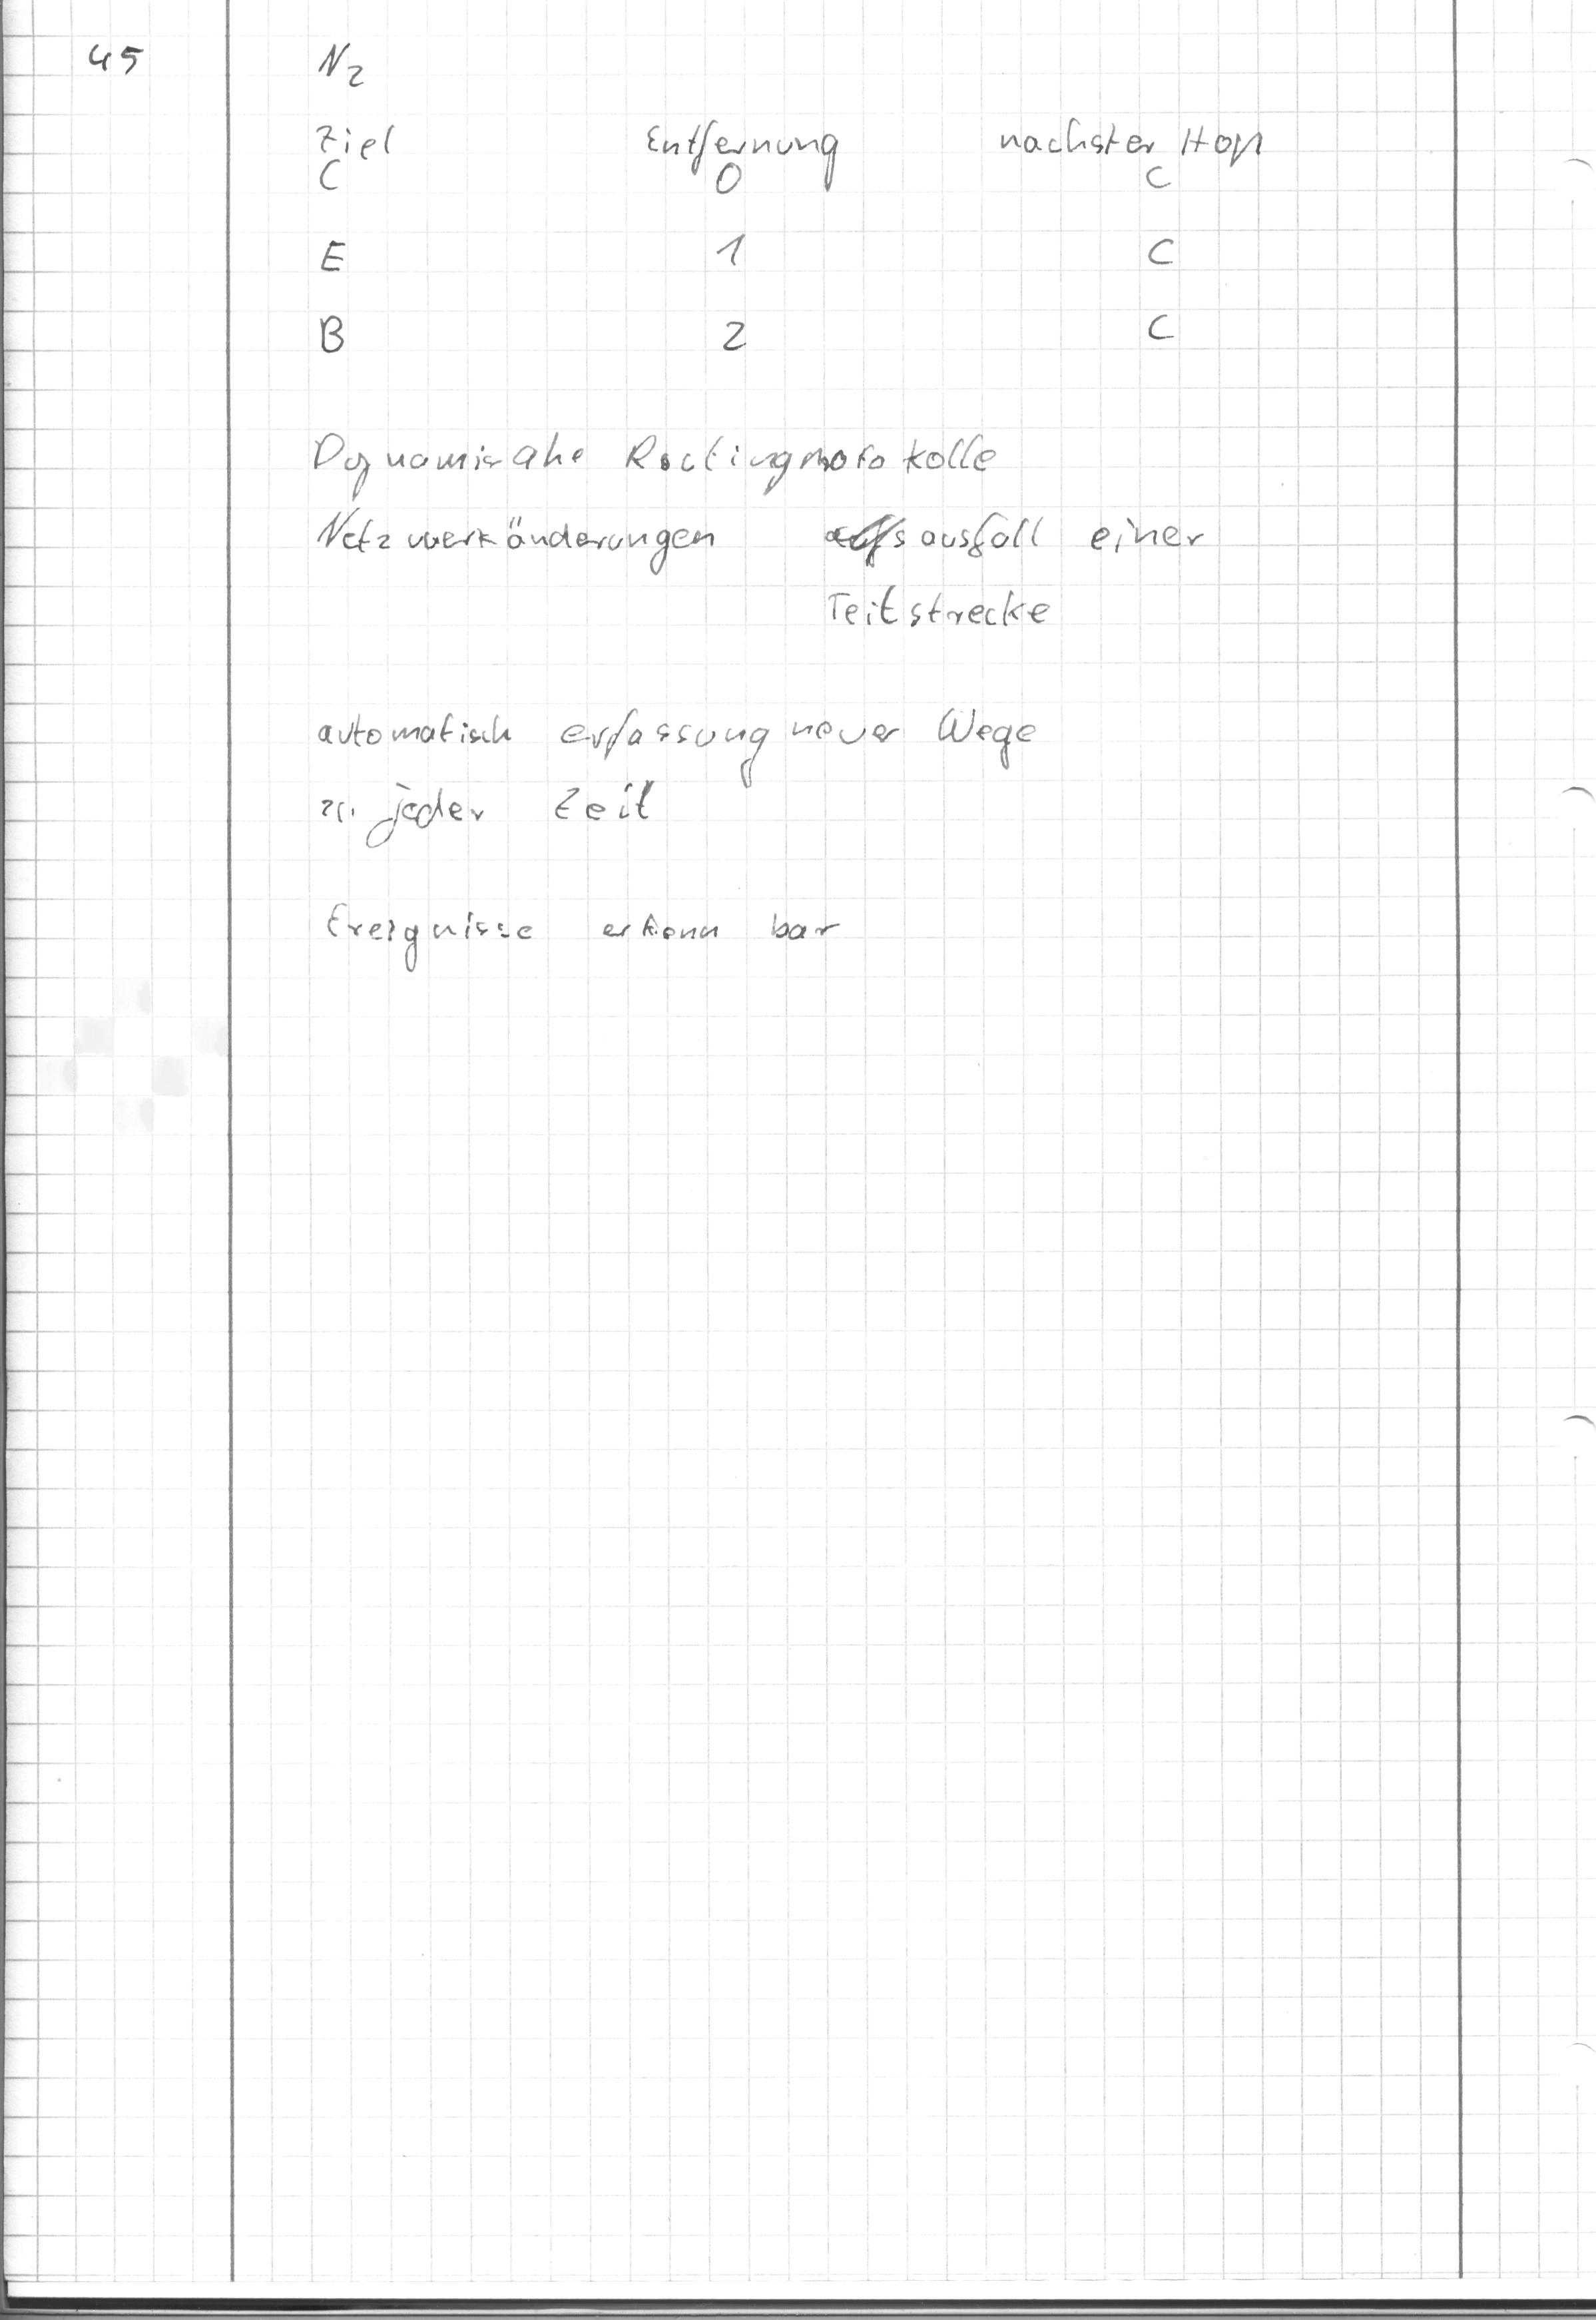word: (309, 703, 1047, 860), (991, 101, 1278, 372), (635, 107, 868, 377), (306, 421, 1005, 501), (819, 502, 1205, 641), (321, 884, 848, 984), (296, 31, 425, 368), (309, 499, 728, 593)
